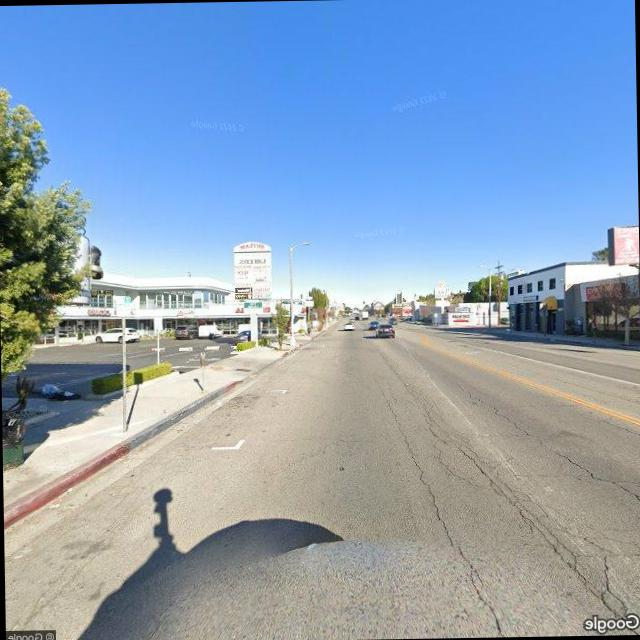crack: (374, 371, 640, 628)
